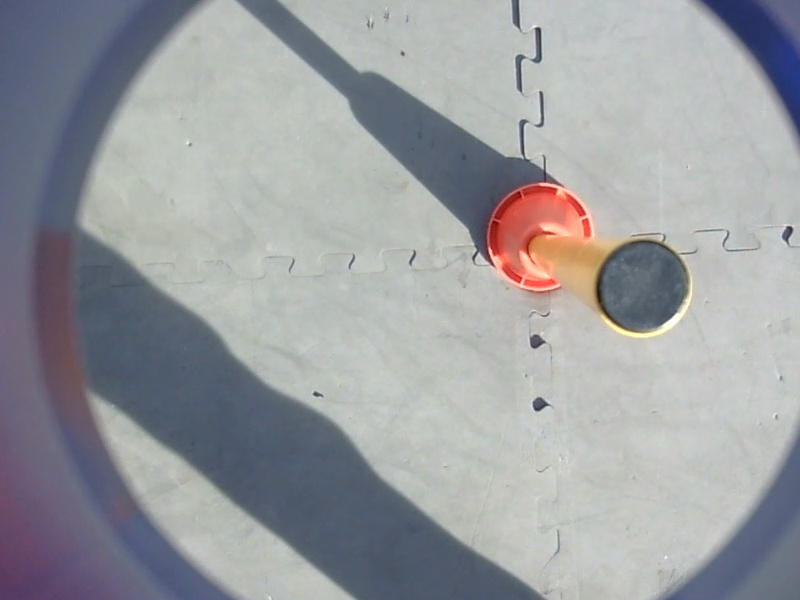tip: (588, 234, 700, 343)
